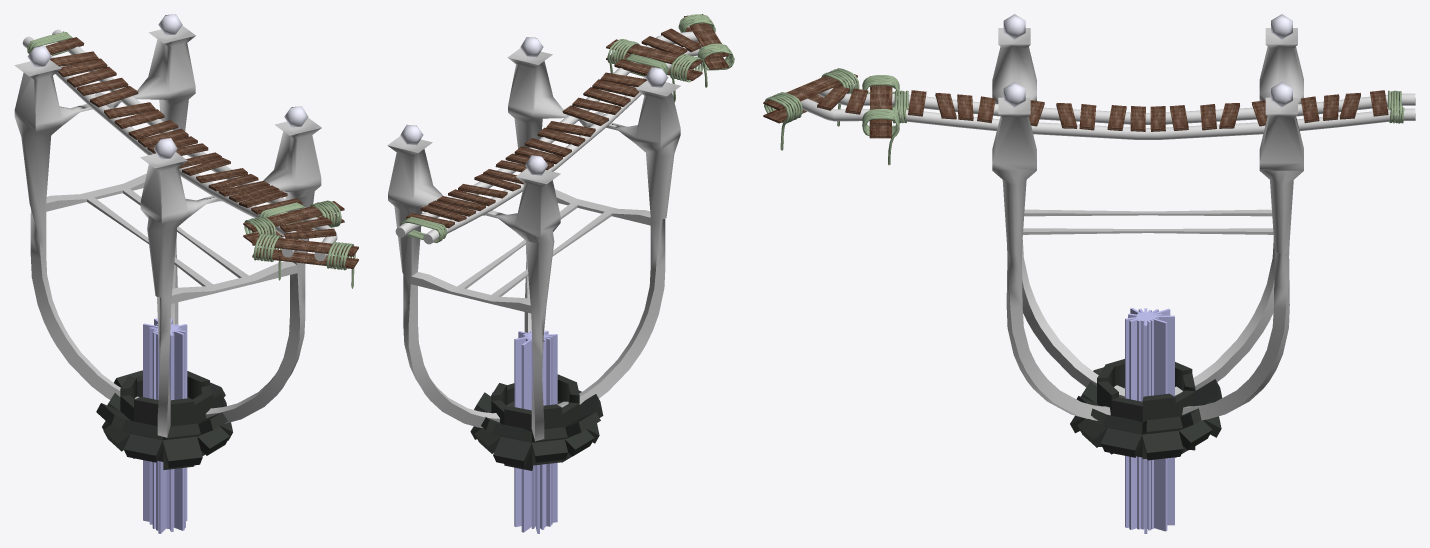
The model's file is 1_bridge_left.fbx.
3 views of the same model, side by side, from view 1: azimuth 30°, elevation 25°; view 2: azimuth 150°, elevation 25°; view 3: azimuth 270°, elevation 25° (orthographic). The views are drawn at different scales.
Visible parts, largest first — view 1: 1_left_base, gravityring, 1_left_La, 1_left_verschlag, 1_left_La_c, 1_left_verschlag_ropes, 1_left_verschlag02, 1_left_verschlag02_ropes, 1_left_La_ropes; view 2: 1_left_base, gravityring, 1_left_La, 1_left_verschlag02_ropes, 1_left_La_c, 1_left_verschlag02, 1_left_verschlag_ropes, 1_left_La_ropes, 1_left_verschlag; view 3: 1_left_base, gravityring, 1_left_La, 1_left_La_c, 1_left_verschlag_ropes, 1_left_verschlag, 1_left_verschlag02_ropes, 1_left_verschlag02, 1_left_La_ropes.
Part boxes in pixels (x1=…): 1_left_base: x1=14, y1=14, x2=321, y2=437; gravityring: x1=96, y1=318, x2=232, y2=533; 1_left_La: x1=22, y1=29, x2=303, y2=228; 1_left_verschlag: x1=252, y1=235, x2=358, y2=268; 1_left_La_c: x1=275, y1=217, x2=337, y2=260; 1_left_verschlag_ropes: x1=253, y1=233, x2=355, y2=288; 1_left_verschlag02: x1=243, y1=201, x2=344, y2=243; 1_left_verschlag02_ropes: x1=244, y1=200, x2=341, y2=235; 1_left_La_ropes: x1=27, y1=31, x2=305, y2=228; 1_left_base: x1=387, y1=37, x2=680, y2=441; gravityring: x1=470, y1=330, x2=603, y2=533; 1_left_La: x1=395, y1=59, x2=671, y2=244; 1_left_verschlag02_ropes: x1=607, y1=39, x2=703, y2=101; 1_left_La_c: x1=641, y1=28, x2=701, y2=65; 1_left_verschlag02: x1=606, y1=39, x2=702, y2=80; 1_left_verschlag_ropes: x1=678, y1=14, x2=734, y2=87; 1_left_La_ropes: x1=400, y1=53, x2=668, y2=242; 1_left_verschlag: x1=684, y1=14, x2=728, y2=70; 1_left_base: x1=992, y1=14, x2=1303, y2=420; gravityring: x1=1070, y1=308, x2=1222, y2=533; 1_left_La: x1=892, y1=90, x2=1415, y2=139; 1_left_La_c: x1=796, y1=85, x2=869, y2=121; 1_left_verschlag_ropes: x1=764, y1=68, x2=859, y2=150; 1_left_verschlag: x1=763, y1=74, x2=857, y2=123; 1_left_verschlag02_ropes: x1=862, y1=75, x2=899, y2=165; 1_left_verschlag02: x1=869, y1=85, x2=892, y2=138; 1_left_La_ropes: x1=892, y1=90, x2=1404, y2=123.
Size of what is drawn, in the model's own units: 46 by 117 by 146.
7 materials, 1 textured.
